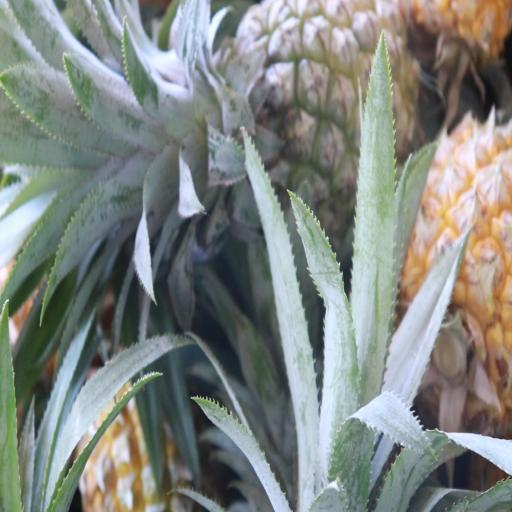Pineapple - v8 v1: (398, 127, 512, 421)
